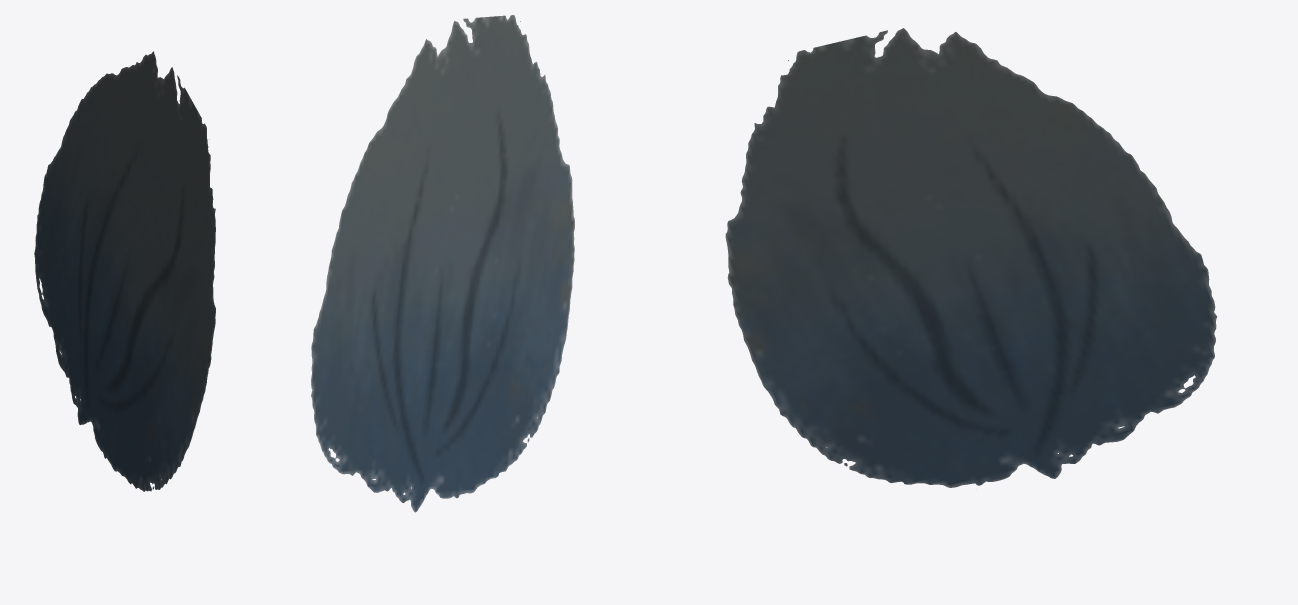
Rendered from tree4_002.fbx.
3 renders of one model, left to right at view 1: azimuth 30°, elevation 25°; view 2: azimuth 150°, elevation 25°; view 3: azimuth 270°, elevation 25°, orthographic. The views are drawn at different scales.
Parts seen in each view (by area): view 1: tree4.002; view 2: tree4.002; view 3: tree4.002.
Part boxes in pixels (x1,y1,x2,y2): tree4.002: (34,51,215,491); tree4.002: (311,15,574,512); tree4.002: (725,28,1216,487).
Bounding box in the file's own units: 28.19 × 200 × 190.
